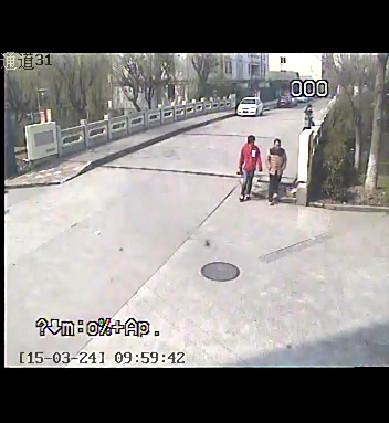person: (236, 134, 263, 205), (266, 136, 285, 208), (302, 106, 315, 129)
